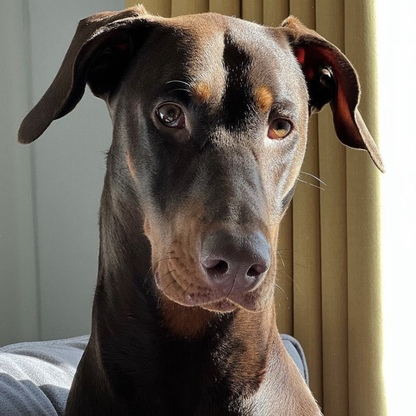doberman: (40, 7, 384, 411)
